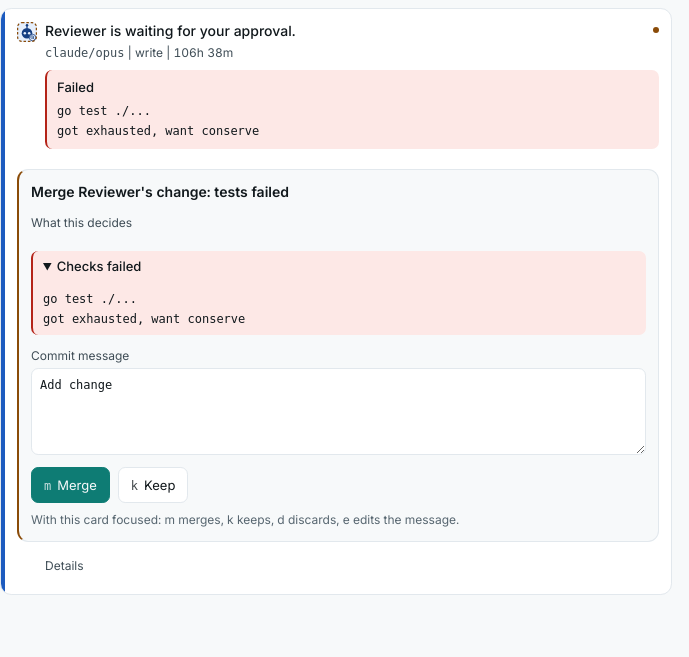
Test case: RunCardView › shows a merge refusal and keeps the approval pending
Click the button "Merge": (70, 486) x1=31 y1=468 x2=110 y2=504
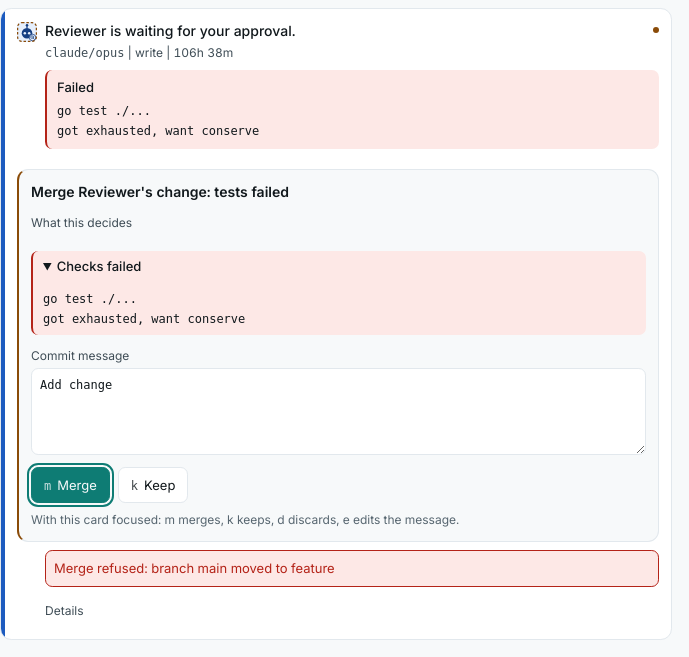
Expected: the button "Keep" is enabled, x1=118 y1=468 x2=188 y2=504
Expected: the message shows "branch main moved to feature", x1=54 y1=560 x2=335 y2=576
